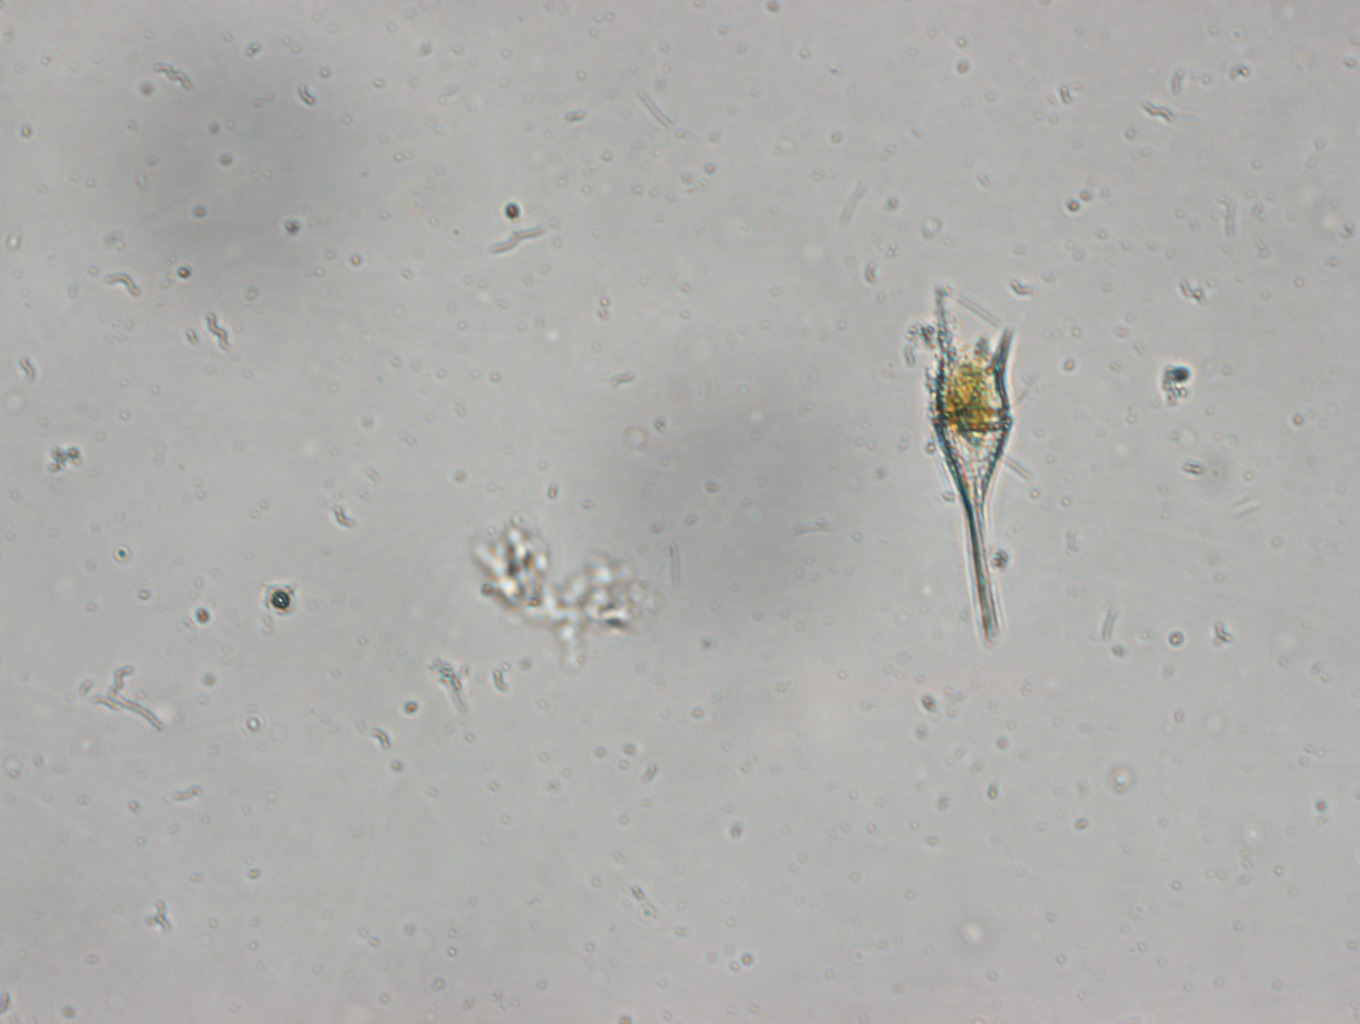ceratium furca: (924, 282, 1028, 656)
